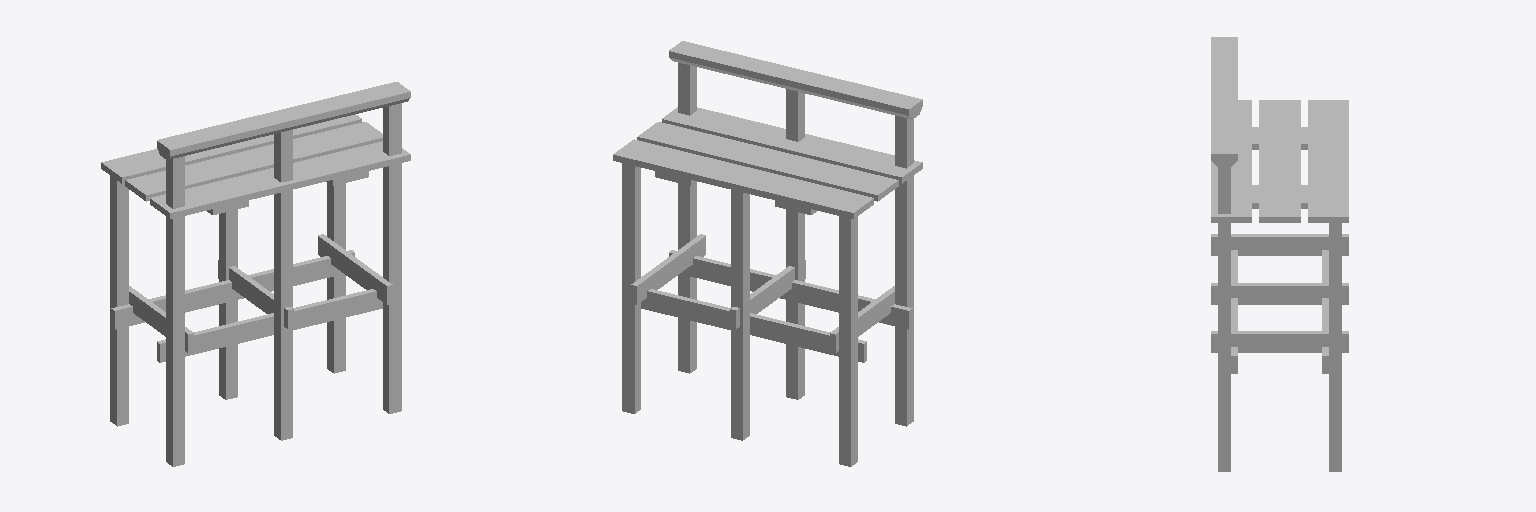
File: scaffold_small_high_railing_long.obj
3 renders of one model, left to right at view 1: azimuth 30°, elevation 25°; view 2: azimuth 150°, elevation 25°; view 3: azimuth 270°, elevation 25°, orthographic.
Visible parts, largest first — view 1: scaffold_small_high_railing_long_Cube.2467; view 2: scaffold_small_high_railing_long_Cube.2467; view 3: scaffold_small_high_railing_long_Cube.2467.
Boxes of the visible parts, box(x1,y1,x2,y2) form: scaffold_small_high_railing_long_Cube.2467: box(101, 82, 410, 466); scaffold_small_high_railing_long_Cube.2467: box(613, 41, 922, 466); scaffold_small_high_railing_long_Cube.2467: box(1211, 37, 1348, 471).
Size of the model in its own units: 4 by 5.1 by 2.